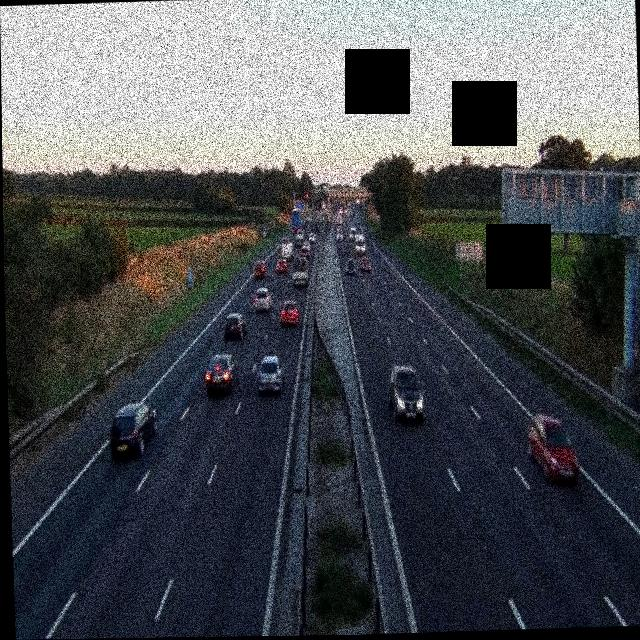car: (527, 413, 579, 484), (109, 402, 159, 458), (388, 363, 424, 422), (205, 353, 238, 394), (255, 355, 283, 394), (222, 311, 247, 340), (251, 285, 272, 313), (281, 300, 299, 326), (253, 261, 267, 279), (274, 256, 287, 272), (345, 258, 356, 276), (362, 256, 371, 272), (335, 228, 344, 240)
truck: (288, 258, 307, 287), (292, 209, 305, 238), (281, 241, 292, 262)
